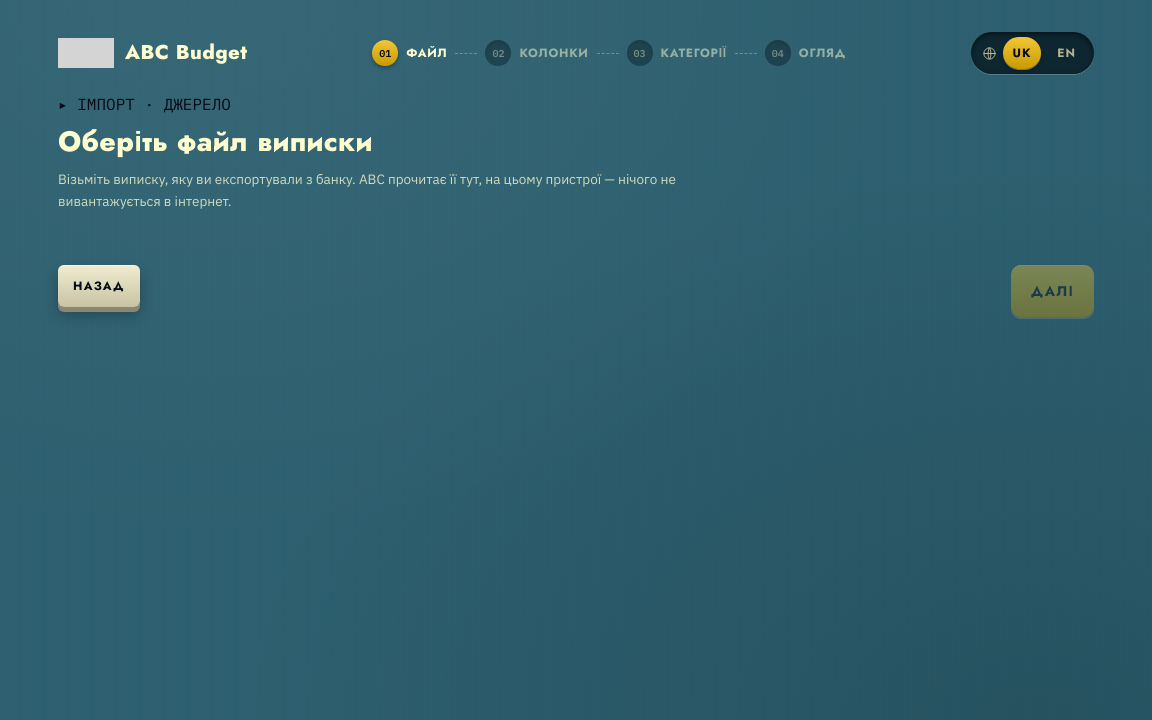
it: wizard flow (single route, internal steps; REAL gate #1 since 2.7) › S3a-Назад with NO session exits straight to Dashboard (blocker inactive)
This screenshot has width=1152, height=720.
Click the button "Назад".
click(99, 286)  # box [58,265,140,307]
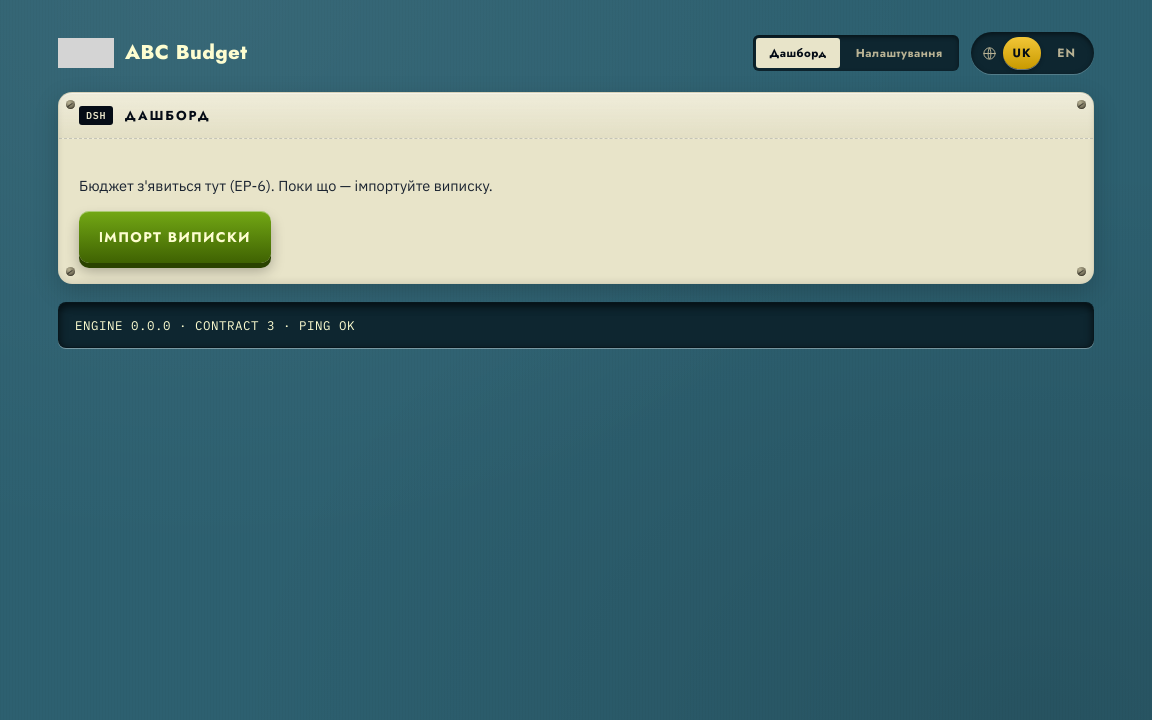
Expected: the element with test id "screen-dashboard" is shown, [36,0,1116,380]
